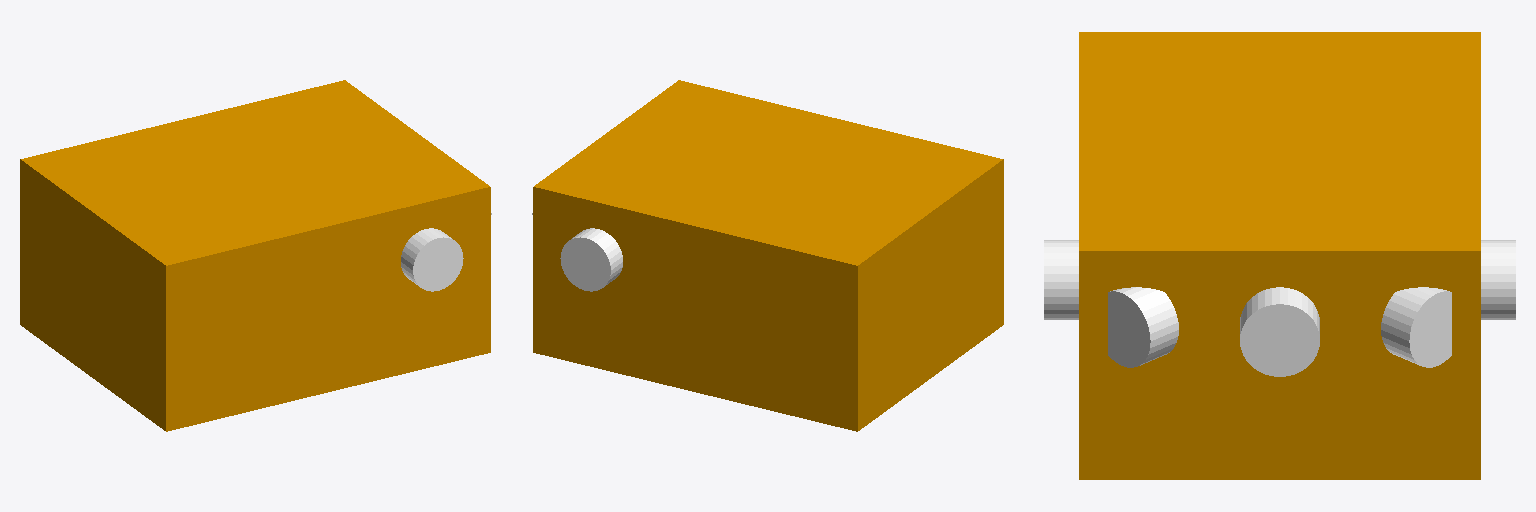
robot.urdf — IMRrobot:
<?xml version="1.0"?>

<robot name="IMRrobot">

   <material name="white">
      <color rgba="1 1 1 1"/>
    </material>

    <material name="black">
      <color rgba="0.1 0.1 0.1 1"/>
    </material>

  <link name="base_link">
    <visual>
      <geometry>
        <box size="0.45 0.35 0.22"/>
      <!-- <mesh filename="package://robot_urdf/meshes/sensorHead.stl"/> -->
      </geometry>
      <origin rpy="0 0 0" xyz="0 0 0.11"/>
    </visual>
  </link>

  <!-- LIDAR -->
  <link name="lidar_link">
    <visual>
      <geometry>
       <!-- <cylinder length="0.06" radius="0.06"/> -->
       <mesh filename="package://robot_urdf/meshes/rplidar.stl"/>
      </geometry>
      <origin rpy="0 0 1.57075" xyz="0 0 0"/>
      <material name="black"/>
    </visual>
  </link>

  <joint name="lidar_link_joint" type="fixed">
    <axis xyz="1 0 0"/>
    <parent link="base_link"/>
    <child link="lidar_link"/>.
    <origin rpy="0 0 0" xyz="0.125 0 0.25"/>
  </joint>

   <!-- SONAR0 -->
  <link name="sonar0">
    <visual>
      <geometry>
         <cylinder length="0.035" radius="0.035"/>
        <!--  <mesh filename="package://hector_sensors_description/meshes/sonar_sensor/max_sonar_ez4.dae"/> -->
      </geometry>
      <origin rpy="0 1.57075 0" xyz="0 0 0"/>
      <material name="white"/>
    </visual>
  </link>

  <joint name="sonar0_joint" type="fixed">
    <parent link="base_link"/>
    <child link="sonar0"/>
    <origin rpy="0 0 1.57075" xyz="0.135 0.1875 0.15"/>
   <!-- <axis xyz="0 0 1"/>
    <origin xyz="0 -0.22 0.25"/> -->
  </joint>

<!-- SONAR1 -->
  <link name="sonar1">
    <visual>
      <geometry>
         <cylinder length="0.035" radius="0.035"/>
        <!--  <mesh filename="package://hector_sensors_description/meshes/sonar_sensor/max_sonar_ez4.dae"/> -->
      </geometry>
      <origin rpy="0 1.57075 0" xyz="0 0 0"/>
      <material name="white"/>
    </visual>
  </link>

  <joint name="sonar1_joint" type="fixed">
    <parent link="base_link"/>
    <child link="sonar1"/>
    <origin rpy="0 0 0.785398" xyz="0.225 0.125 0.15"/>
   <!-- <axis xyz="0 0 1"/>
    <origin xyz="0 -0.22 0.25"/> -->
  </joint>

 <!-- SONAR2 -->
  <link name="sonar2">
    <visual>
      <geometry>
         <cylinder length="0.035" radius="0.035"/>
        <!--  <mesh filename="package://hector_sensors_description/meshes/sonar_sensor/max_sonar_ez4.dae"/> -->
      </geometry>
      <origin rpy="0 1.57075 0" xyz="0 0 0"/>
      <material name="white"/>
    </visual>
  </link>

  <joint name="sonar2_joint" type="fixed">
    <parent link="base_link"/>
    <child link="sonar2"/>
    <origin rpy="0 0 0" xyz="0.2425 0 0.15"/>
   <!-- <axis xyz="0 0 1"/>
    <origin xyz="0 -0.22 0.25"/> -->
  </joint>


 <!-- SONAR3 -->
  <link name="sonar3">
    <visual>
      <geometry>
         <cylinder length="0.035" radius="0.035"/>
        <!--  <mesh filename="package://hector_sensors_description/meshes/sonar_sensor/max_sonar_ez4.dae"/> -->
      </geometry>
      <origin rpy="0 1.57075 0" xyz="0 0 0"/>
      <material name="white"/>
    </visual>
  </link>

  <joint name="sonar3_joint" type="fixed">
    <parent link="base_link"/>
    <child link="sonar3"/>
    <origin rpy="0 0 -0.785398" xyz="0.225 -0.125 0.15"/>
   <!-- <axis xyz="0 0 1"/>
    <origin xyz="0 -0.22 0.25"/> -->
  </joint>

   <!-- SONAR4 -->
  <link name="sonar4">
    <visual>
      <geometry>
         <cylinder length="0.035" radius="0.035"/>
        <!--  <mesh filename="package://hector_sensors_description/meshes/sonar_sensor/max_sonar_ez4.dae"/> -->
      </geometry>
      <origin rpy="0 1.57075 0" xyz="0 0 0"/>
      <material name="white"/>
    </visual>
  </link>

  <joint name="sonar4_joint" type="fixed">
    <parent link="base_link"/>
    <child link="sonar4"/>
    <origin rpy="0 0 -1.57075" xyz="0.135 -0.1875 0.15"/>
   <!-- <axis xyz="0 0 1"/>
    <origin xyz="0 -0.22 0.25"/> -->
  </joint>


</robot>

--- Render facts (derived) ---
Views: 3 orthographic renders of the robot side by side, from view 1: azimuth 30°, elevation 25°; view 2: azimuth 150°, elevation 25°; view 3: azimuth 270°, elevation 25°.
Model IMRrobot with 7 links and 6 joints (6 fixed), rooted at base_link, posed all joints at 0.
Links seen in each view (by area): view 1: base_link, sonar4; view 2: base_link, sonar0; view 3: base_link, sonar2, sonar1, sonar3, sonar0, sonar4.
Link boxes in pixels (bbox=[...]): base_link: bbox=[20, 80, 490, 431]; sonar4: bbox=[401, 228, 463, 291]; base_link: bbox=[533, 80, 1003, 431]; sonar0: bbox=[560, 228, 622, 291]; base_link: bbox=[1079, 32, 1480, 479]; sonar2: bbox=[1240, 287, 1319, 376]; sonar1: bbox=[1381, 287, 1451, 367]; sonar3: bbox=[1108, 287, 1178, 367]; sonar0: bbox=[1481, 240, 1515, 319]; sonar4: bbox=[1044, 240, 1078, 319].
Size in the robot's own frame: 0.4871 by 0.41 by 0.22 metres.
0 mesh visuals loaded from 1 distinct referenced files (none loaded); not drawn: 1 (reference not matched to a file when rendering).